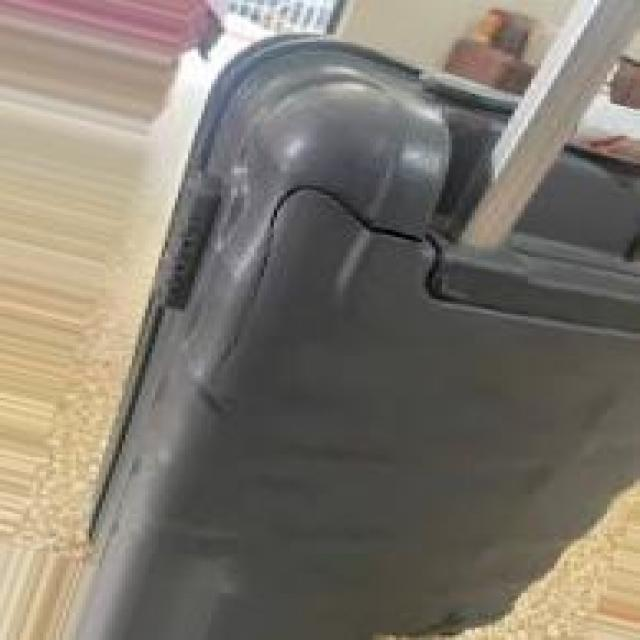Bag: (58, 0, 640, 640)
Handle: (439, 1, 640, 287)
